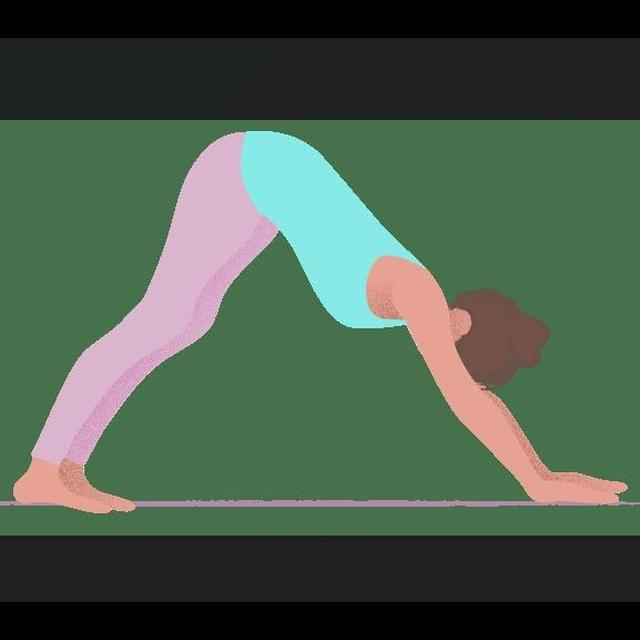Downward-Facing_Dog: (9, 129, 626, 514)
